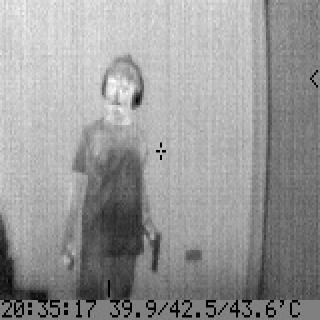Gun: (136, 223, 164, 275)
